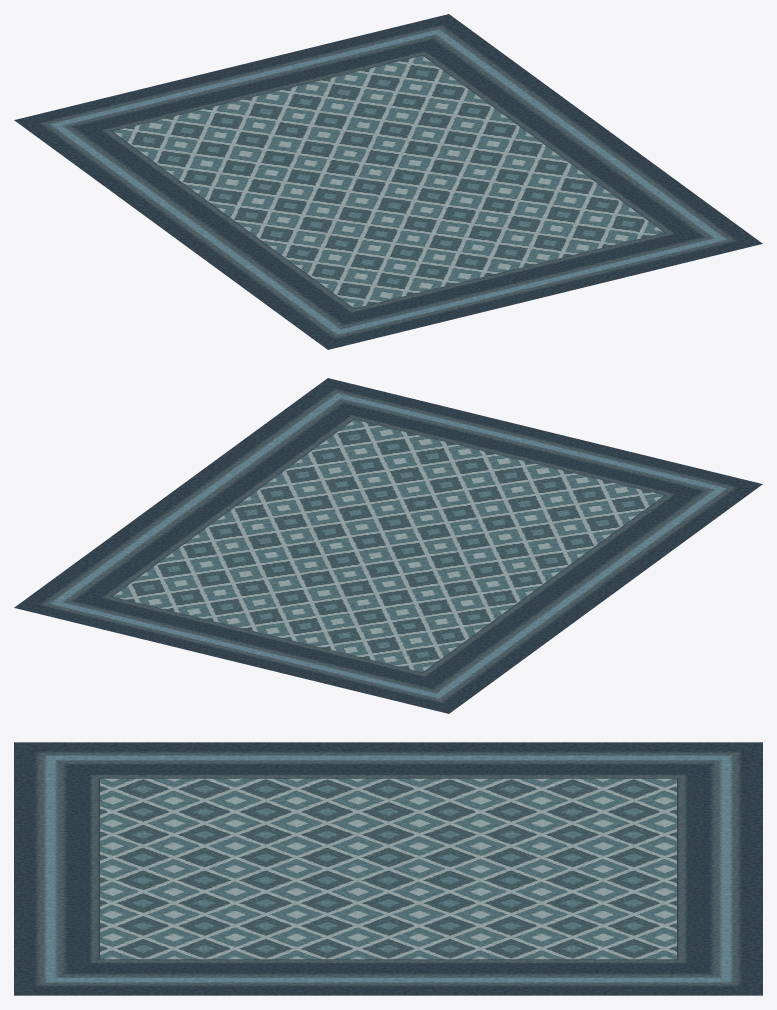
File: DI_024_rug.glb
3 renders of one model, top to bottom at view 1: azimuth 30°, elevation 25°; view 2: azimuth 150°, elevation 25°; view 3: azimuth 270°, elevation 25°, orthographic. The views are drawn at different scales.
Parts seen in each view (by area): view 1: Rug; view 2: Rug; view 3: Rug.
Part boxes in pixels (<box>): Rug: <box>14,14,762,349</box>; Rug: <box>14,378,762,713</box>; Rug: <box>14,742,762,995</box>.
Size of the model in its own units: 3 by 0 by 3.75.
2 materials, 2 textured.
